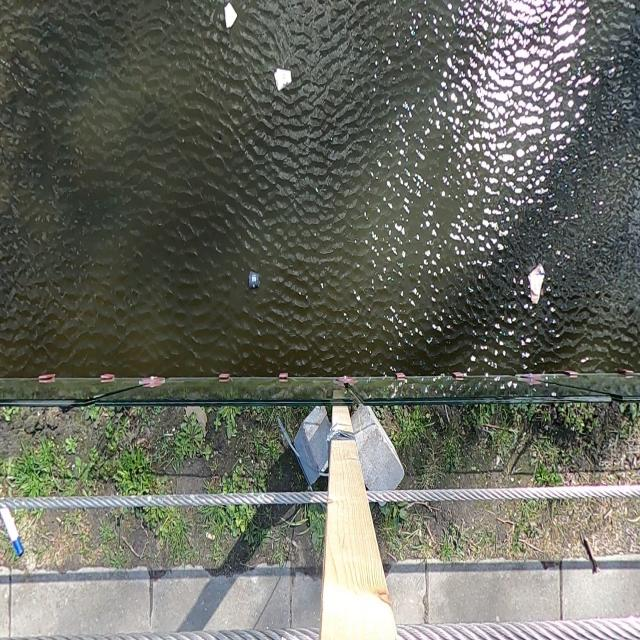Non plastique: (272, 64, 295, 94), (221, 0, 240, 35)
